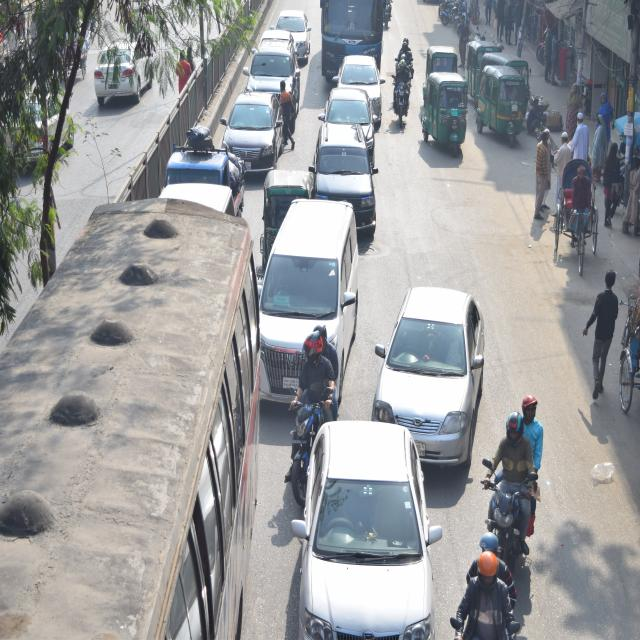bus: (0, 198, 264, 640), (317, 0, 387, 68)
car: (295, 420, 436, 640), (370, 279, 490, 434), (98, 34, 164, 107), (224, 86, 280, 168), (313, 129, 377, 197), (332, 53, 382, 110), (247, 39, 296, 95), (323, 90, 371, 134), (273, 6, 307, 47)
microbus: (258, 198, 364, 407)
motorbike: (477, 459, 541, 556), (282, 378, 326, 484), (388, 58, 409, 125)
